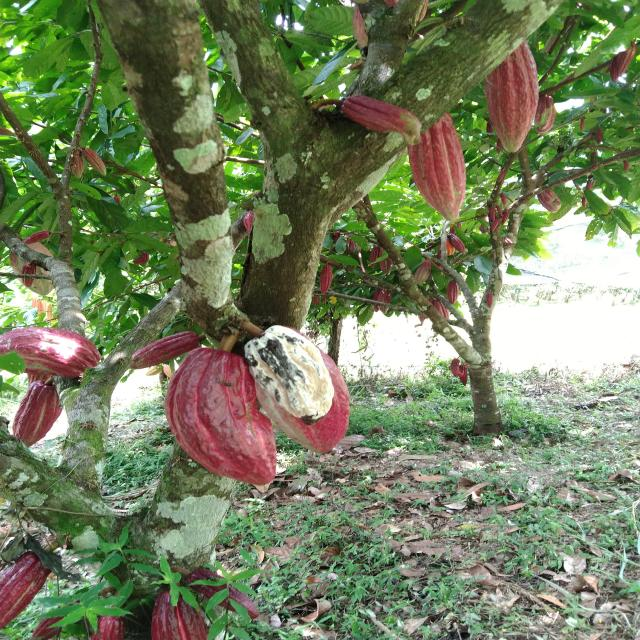Monilia: (242, 328, 351, 451)
Sana: (172, 352, 281, 481), (412, 116, 469, 218), (490, 43, 540, 155), (0, 328, 112, 376), (0, 554, 49, 632), (336, 96, 414, 140), (12, 385, 59, 443), (129, 336, 190, 371), (612, 43, 636, 81), (80, 148, 107, 174), (543, 188, 564, 212), (320, 264, 334, 294), (449, 234, 469, 254), (413, 262, 427, 284), (446, 282, 459, 303), (23, 234, 52, 242), (494, 215, 502, 229), (492, 205, 496, 220)
